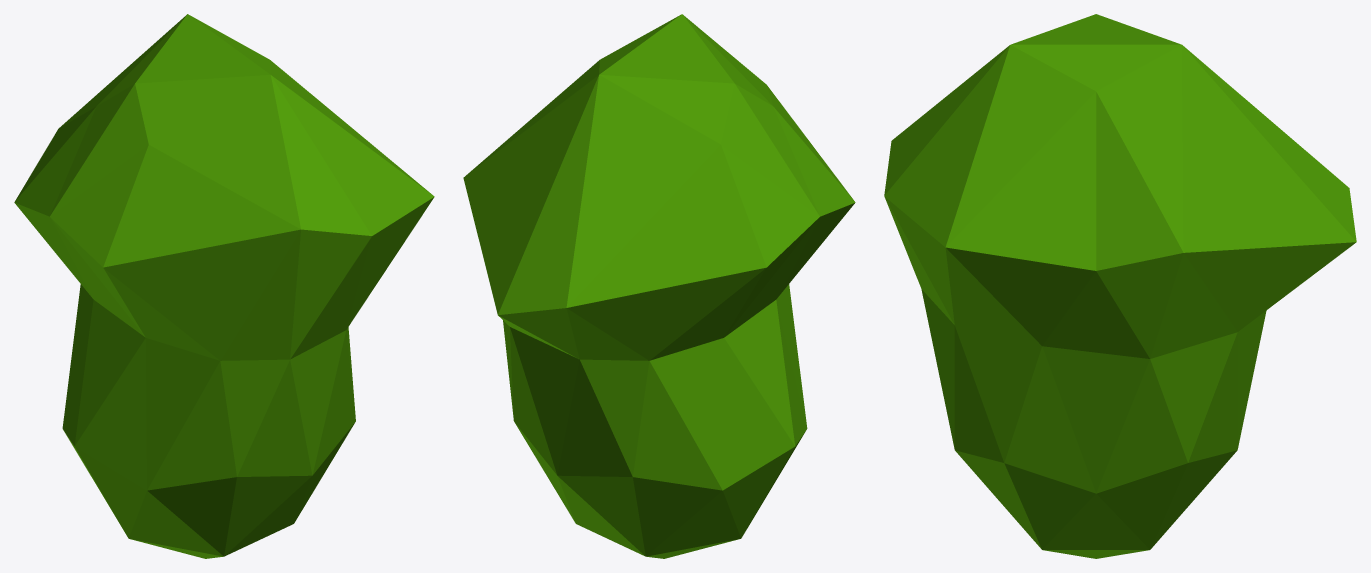
Rendered from Vegetation_Modular_New_Tree_Leaf_Bunch_02.FBX.
3 renders of one model, left to right at view 1: azimuth 30°, elevation 25°; view 2: azimuth 150°, elevation 25°; view 3: azimuth 270°, elevation 25°, orthographic. The views are drawn at different scales.
Visible parts, largest first — view 1: Vegetation_Modular_New_Tree_Leaf_Bunch_02; view 2: Vegetation_Modular_New_Tree_Leaf_Bunch_02; view 3: Vegetation_Modular_New_Tree_Leaf_Bunch_02.
Part boxes in pixels (x1=…): Vegetation_Modular_New_Tree_Leaf_Bunch_02: x1=14, y1=14, x2=434, y2=558; Vegetation_Modular_New_Tree_Leaf_Bunch_02: x1=463, y1=14, x2=855, y2=558; Vegetation_Modular_New_Tree_Leaf_Bunch_02: x1=884, y1=14, x2=1356, y2=558.
Size of the model in its own units: 954 by 1474 by 1200.
